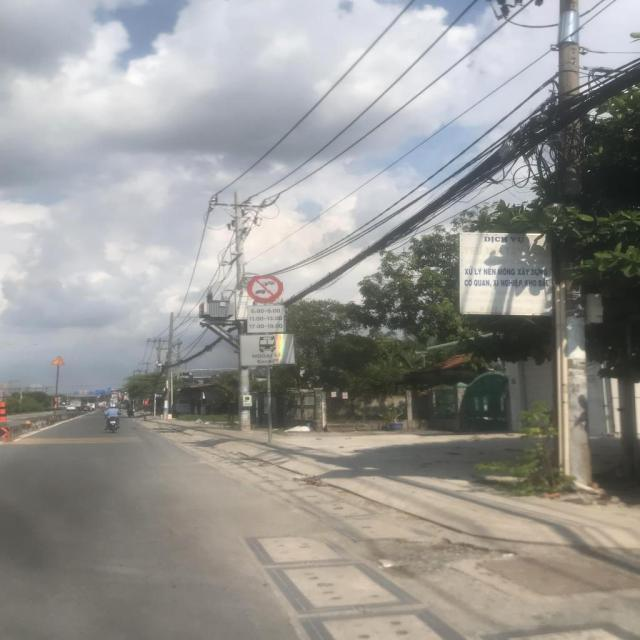107-cam-oto-khach-va-oto-tai: (248, 277, 284, 303)
